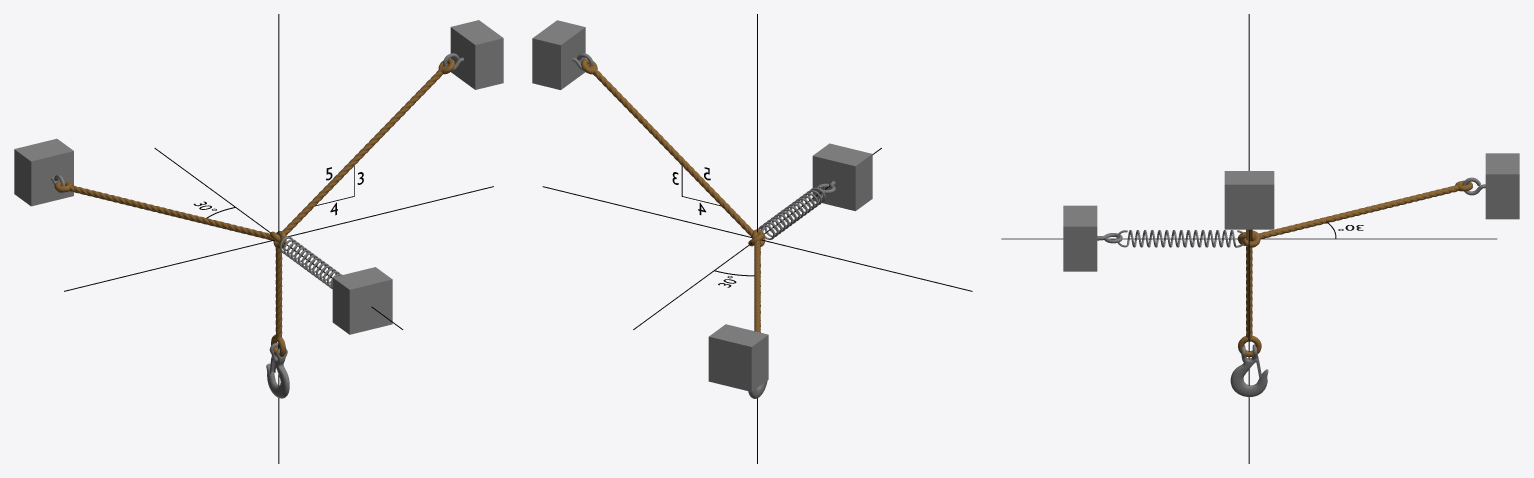
File: 3D_interativo_fisico-testes_4.glb
The picture shows the model from 3 angles, left to right: view 1: azimuth 30°, elevation 25°; view 2: azimuth 150°, elevation 25°; view 3: azimuth 270°, elevation 25°; orthographic projection.
Parts seen in each view (by area): view 1: Plane.002, Plane.001, Plane, corda 1, corda 2, Spring, Hook.001, x, corda 3, z; view 2: Plane.001, Plane.002, Plane, corda 1, Spring, x, corda 2; view 3: Plane, Plane.001, Plane.002, corda 2, Spring, Hook.001, y, corda 3.
Part boxes in pixels (box(x1,y1,x2,y2)): Plane.002: box(332, 267, 392, 334); Plane.001: box(14, 138, 73, 206); Plane: box(450, 20, 503, 89); corda 1: box(282, 63, 448, 235); corda 2: box(67, 184, 275, 240); Spring: box(279, 235, 342, 288); Hook.001: box(266, 343, 289, 398); x: box(64, 186, 493, 291); corda 3: box(275, 241, 282, 340); z: box(278, 14, 279, 463); Plane.001: box(708, 324, 768, 391); Plane.002: box(812, 143, 872, 211); Plane: box(532, 20, 585, 89); corda 1: box(587, 63, 753, 237); Spring: box(758, 185, 825, 239); x: box(542, 186, 972, 291); corda 2: box(754, 240, 760, 332); Plane: box(1224, 171, 1274, 229); Plane.001: box(1485, 153, 1519, 219); Plane.002: box(1063, 205, 1097, 271); corda 2: box(1259, 184, 1461, 238); Spring: box(1116, 230, 1243, 247); Hook.001: box(1230, 344, 1268, 396); y: box(1001, 238, 1496, 239); corda 3: box(1246, 241, 1252, 340).
Size of the model in its own units: 2 by 2 by 2.09.
